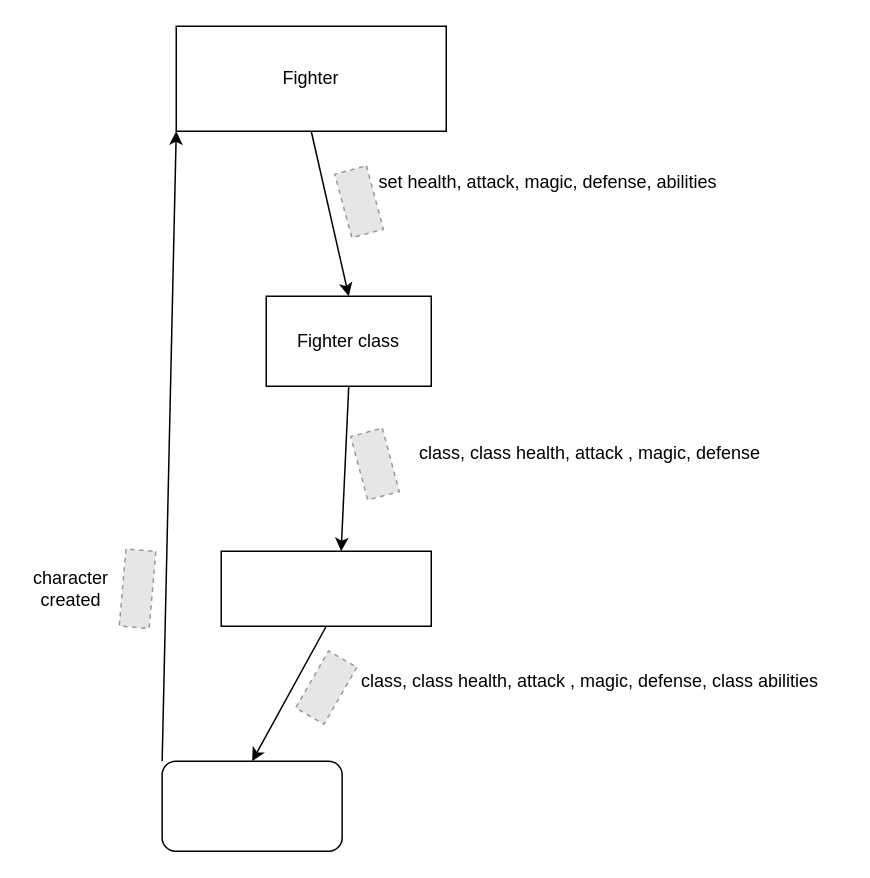
Image size: 870x878. Some labels were removed from this diagram. Grey dashed boxes stand in for pictures. The shapes that lost their labels are listed below. From the top down, each one's box as (x1, y1, x2, y2) in pixels, then its label:
(220, 550, 431, 626): Fighter ability
(161, 760, 342, 851): Fighter character
